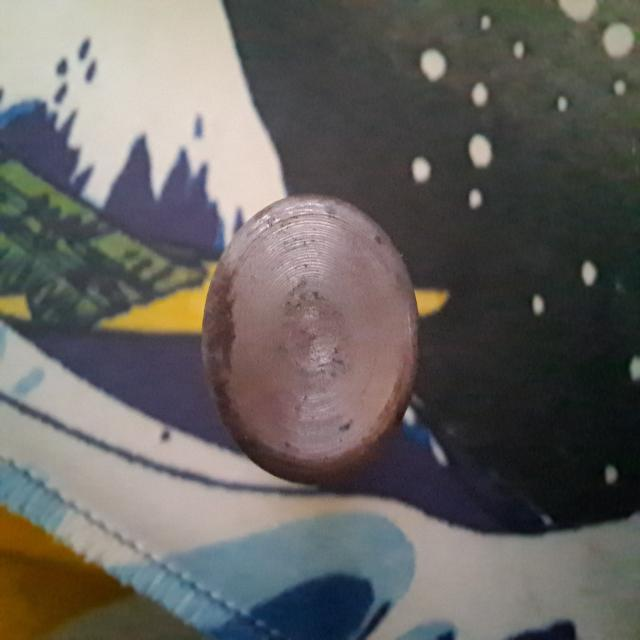planson: (199, 193, 422, 482)
